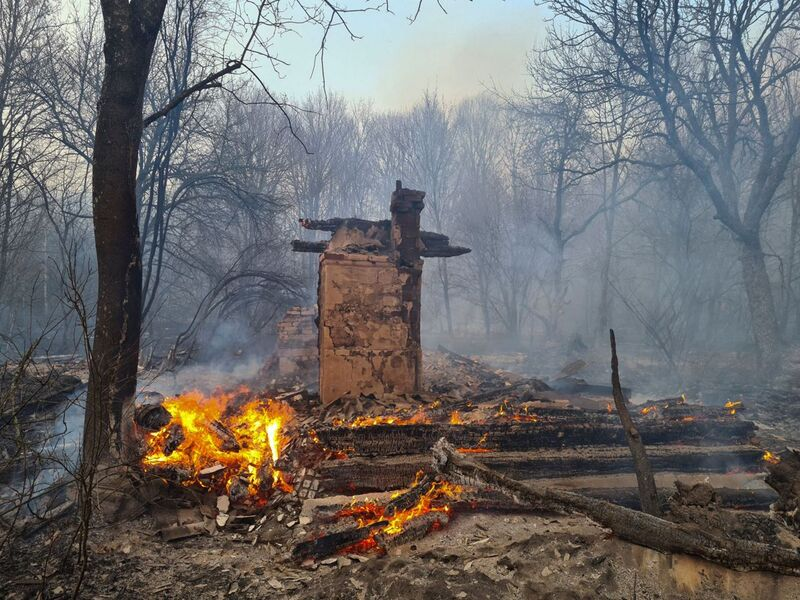fire: (162, 398, 297, 479)
